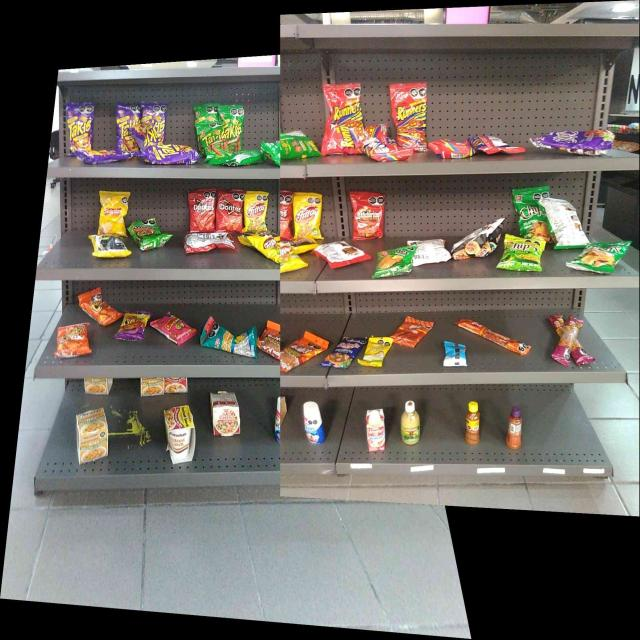bitzAlmendras: (444, 342, 465, 365)
bitzEnchilado90: (395, 325, 422, 344)
bitzEnchilado95: (459, 320, 486, 331)
bitzHabanero: (554, 317, 582, 360)
bokadosCacahuates: (329, 342, 357, 366)
botaneraChilito: (465, 402, 480, 445)
cheetosFlaminHot: (124, 311, 144, 337)
cheetosOriginal: (60, 326, 84, 351), (86, 301, 112, 317)
chipsFuego: (550, 132, 608, 147)
chipsJalapeno: (548, 199, 579, 243), (518, 194, 545, 235), (581, 246, 621, 267)
chipsPapatinas: (506, 239, 540, 270)
churrumais: (159, 318, 191, 339)
delPrimoSalsa: (400, 401, 421, 445)
doritosNacho: (218, 194, 242, 230), (192, 192, 214, 230)
fritosLimon: (295, 199, 319, 236), (246, 196, 266, 228), (256, 237, 280, 254)
leoMix: (280, 344, 316, 365)
maruchanPollo: (76, 413, 109, 461), (141, 378, 164, 396), (84, 378, 108, 394)
maruchanRes: (163, 406, 196, 460), (165, 378, 188, 394)
nestleCarnation: (367, 408, 385, 452)
nestleLechera: (304, 402, 322, 445)
nissinRes: (211, 393, 241, 435)
popKarameladas: (456, 242, 496, 260)
productoAtras: (268, 136, 318, 156), (185, 231, 231, 249), (318, 242, 362, 260), (96, 237, 125, 255), (415, 242, 444, 259)
rancheritos: (354, 199, 382, 239)
rufflesQueso: (378, 248, 410, 274)
runners: (395, 90, 427, 148), (330, 90, 360, 125), (331, 126, 364, 151)
sabritasOriginal: (103, 196, 125, 234)
semillasCalabaza: (366, 337, 384, 366)
semillasGirasol: (208, 330, 255, 352)
tajinDulce: (506, 407, 522, 449)
takisFuego: (68, 105, 92, 151), (119, 110, 140, 151), (142, 111, 164, 143), (150, 146, 192, 162)
takisOriginal: (200, 128, 226, 157), (226, 118, 242, 152)
tostitos: (130, 222, 164, 242)
